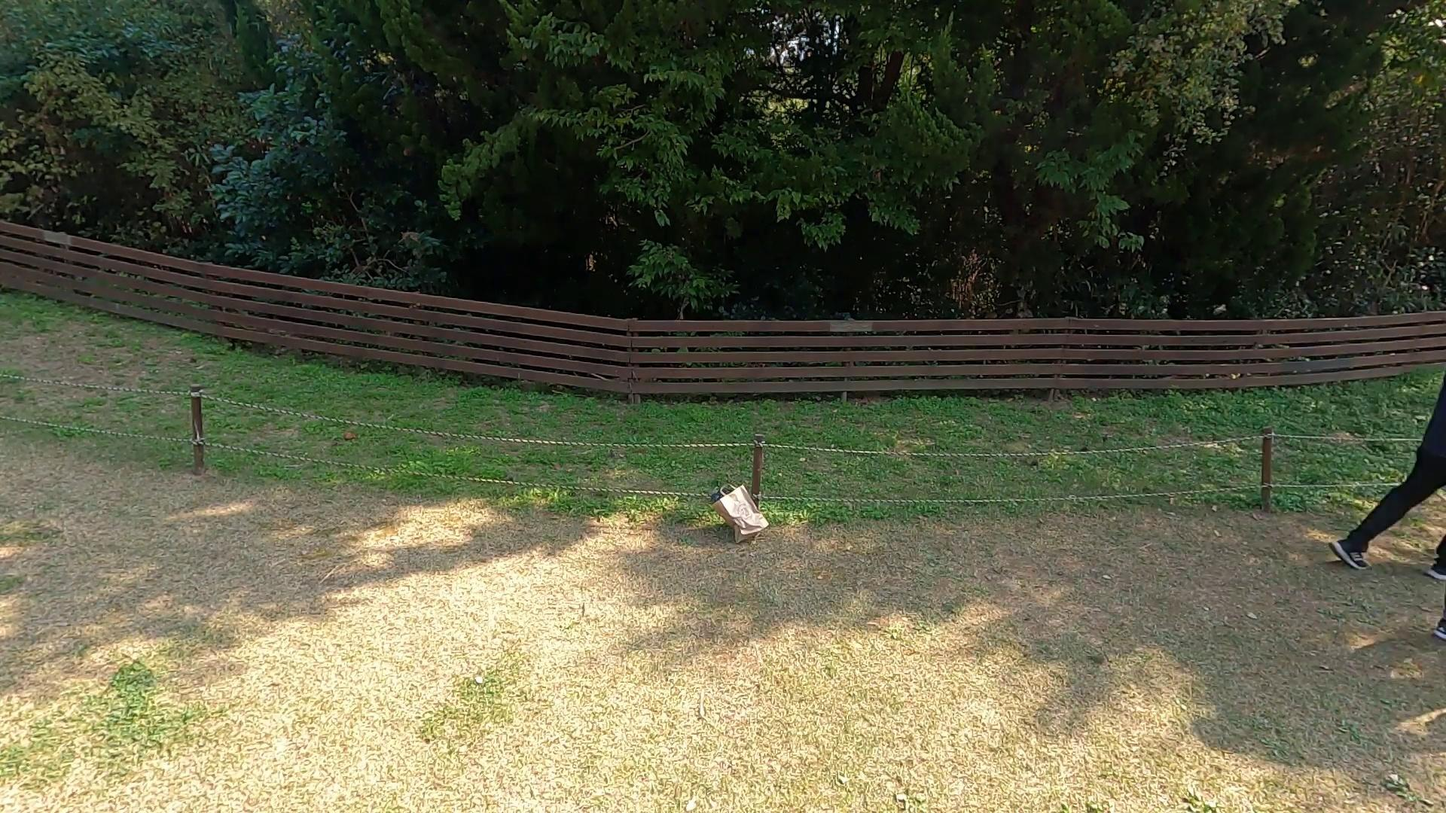person: (1317, 355, 1446, 612)
trash: (703, 476, 776, 549)
